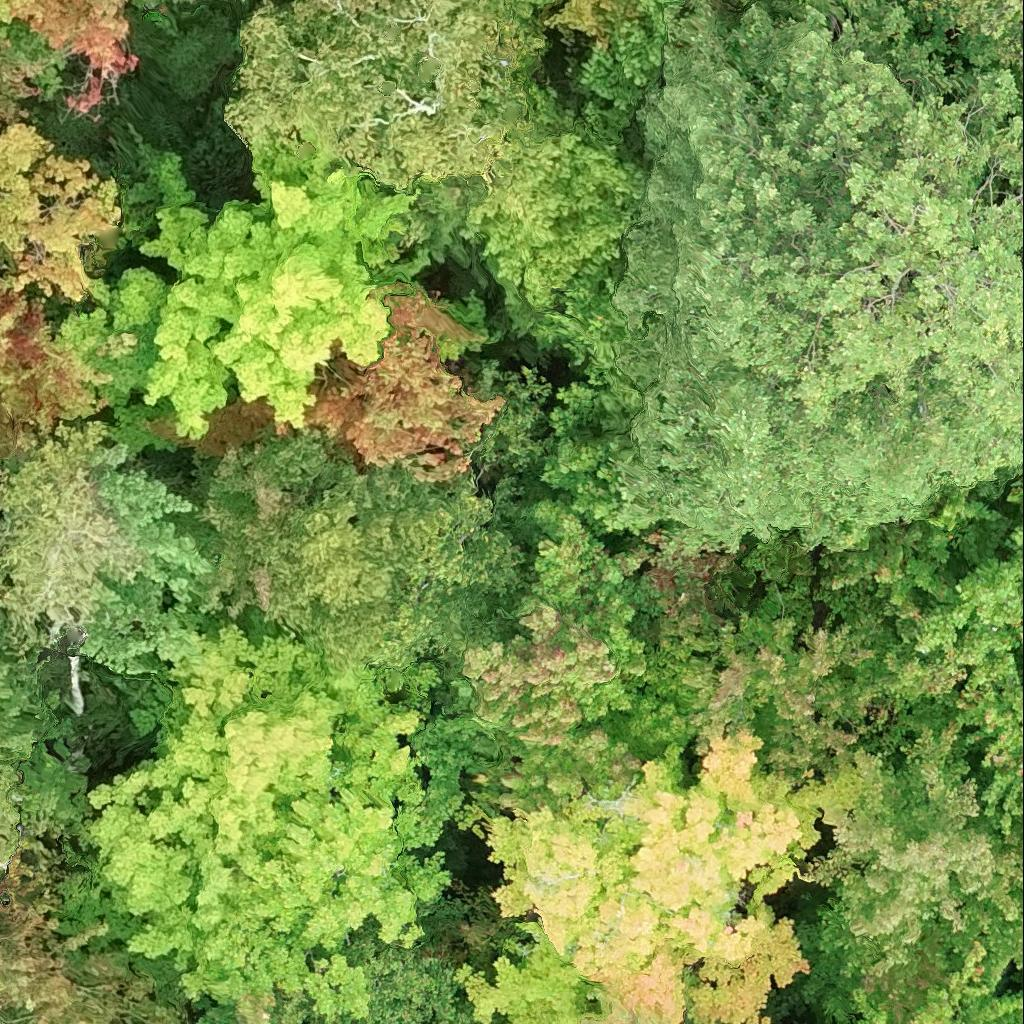crown: (617, 0, 1023, 551), (54, 629, 496, 1018), (453, 723, 863, 1023), (67, 143, 418, 448), (248, 362, 545, 677), (457, 490, 742, 816), (190, 279, 509, 482), (223, 0, 550, 188), (800, 722, 1023, 986), (469, 90, 653, 328), (681, 586, 893, 774), (0, 406, 143, 648), (864, 523, 1023, 732), (538, 229, 646, 534), (199, 920, 475, 1023), (0, 126, 118, 304), (0, 283, 113, 455), (578, 0, 692, 147), (828, 940, 1023, 1023), (0, 0, 137, 115), (898, 0, 1023, 95), (959, 700, 1023, 848), (0, 21, 57, 139), (546, 0, 642, 44), (0, 765, 25, 874), (1004, 470, 1023, 512), (486, 1006, 506, 1023), (0, 451, 8, 474), (244, 0, 268, 4)
